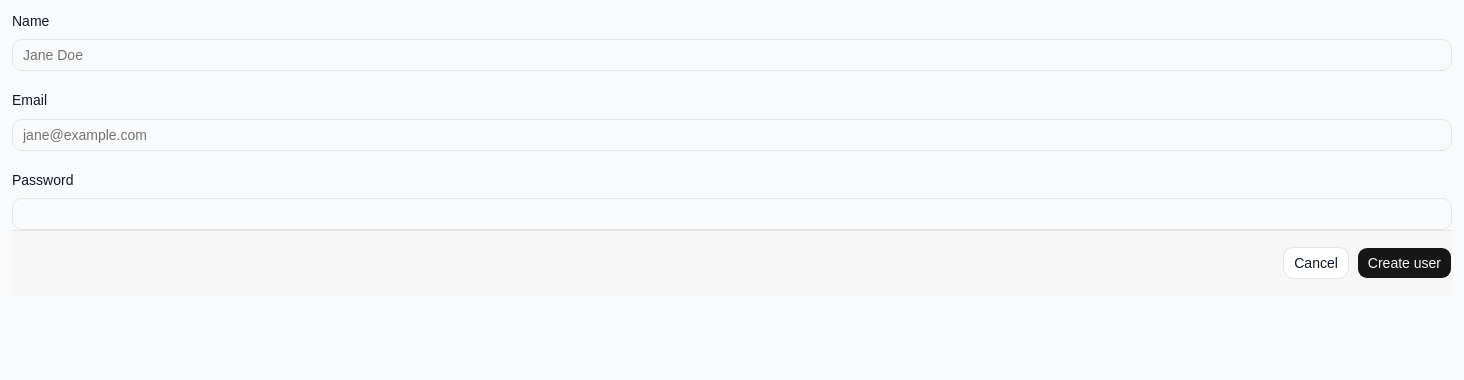
Test: UserForm — create mode › shows validation errors when submitting an empty form
Click the button "Create user" at (1404, 263), box top-left (1357, 247), bottom-right (1452, 279)
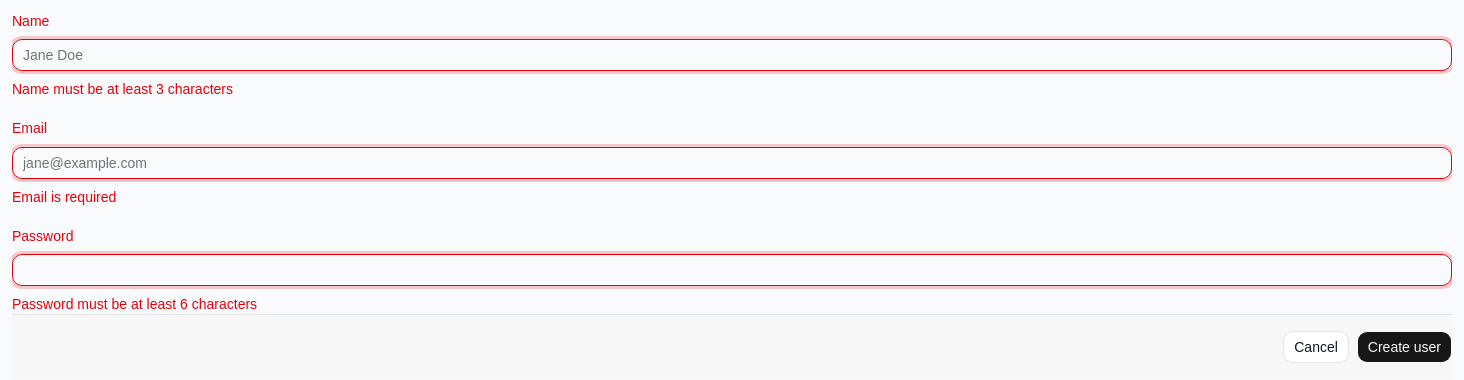
Expected: the text "Name must be at least 3 characters" is shown, top-left (12, 81), bottom-right (233, 97)
Expected: the text "Email is required" is shown, top-left (12, 188), bottom-right (116, 204)
Expected: the text "Password must be at least 6 characters" is shown, top-left (12, 296), bottom-right (257, 312)
